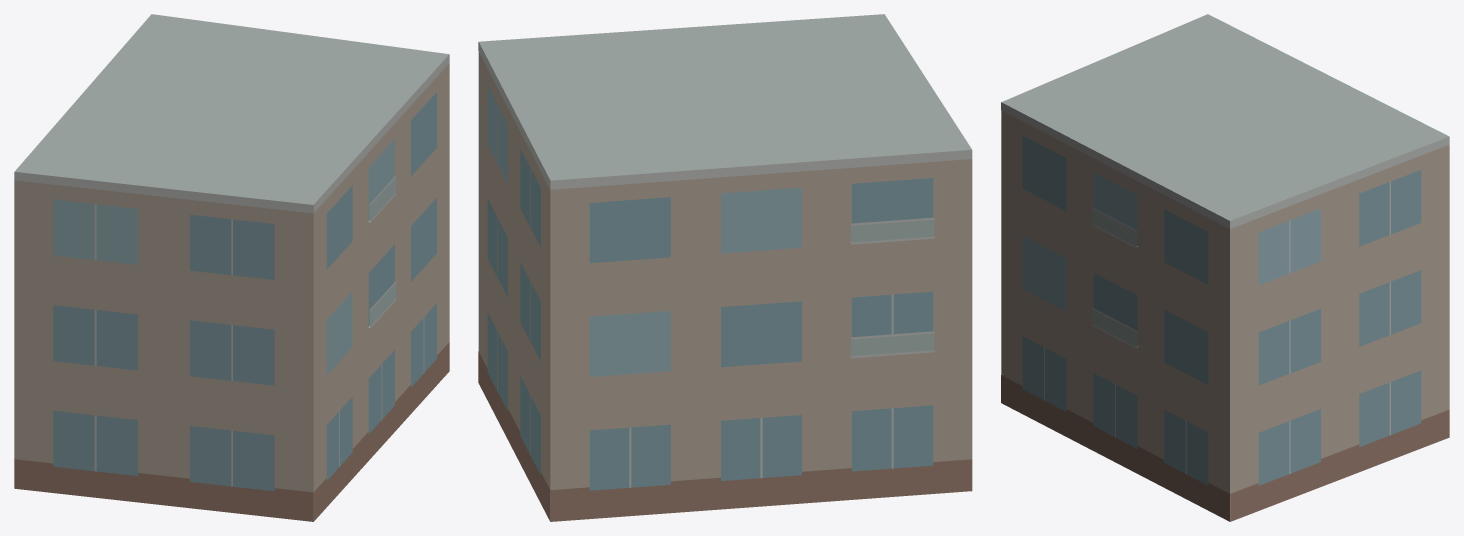
File: survey-upis-32599300.glb
The picture shows the model from 3 angles, left to right: view 1: azimuth 30°, elevation 25°; view 2: azimuth 150°, elevation 25°; view 3: azimuth 270°, elevation 25°; orthographic projection. The views are drawn at different scales.
Parts seen in each view (by area): view 1: survey-upis-32599300.tmp; view 2: survey-upis-32599300.tmp; view 3: survey-upis-32599300.tmp.
Boxes of the visible parts, x1=… form: survey-upis-32599300.tmp: x1=14, y1=14, x2=449, y2=521; survey-upis-32599300.tmp: x1=478, y1=14, x2=972, y2=521; survey-upis-32599300.tmp: x1=1001, y1=14, x2=1449, y2=521.
Bounding box in the file's own units: 13.44 × 9.1 × 12.3.
